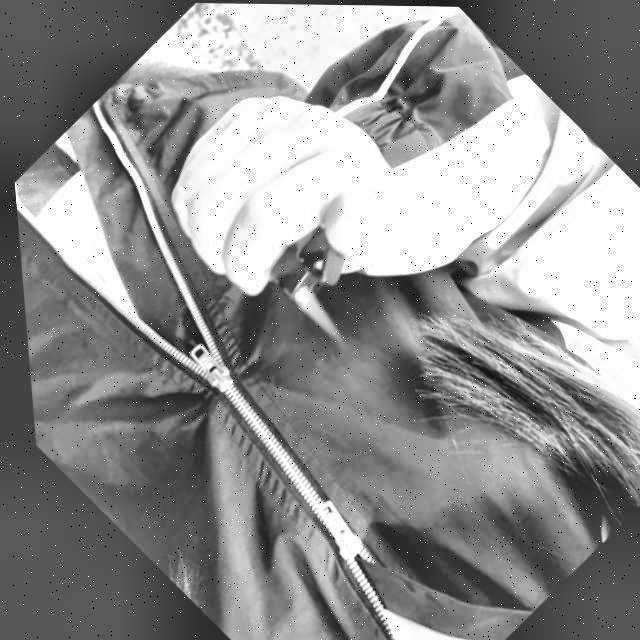Fire: (283, 281, 346, 342)
